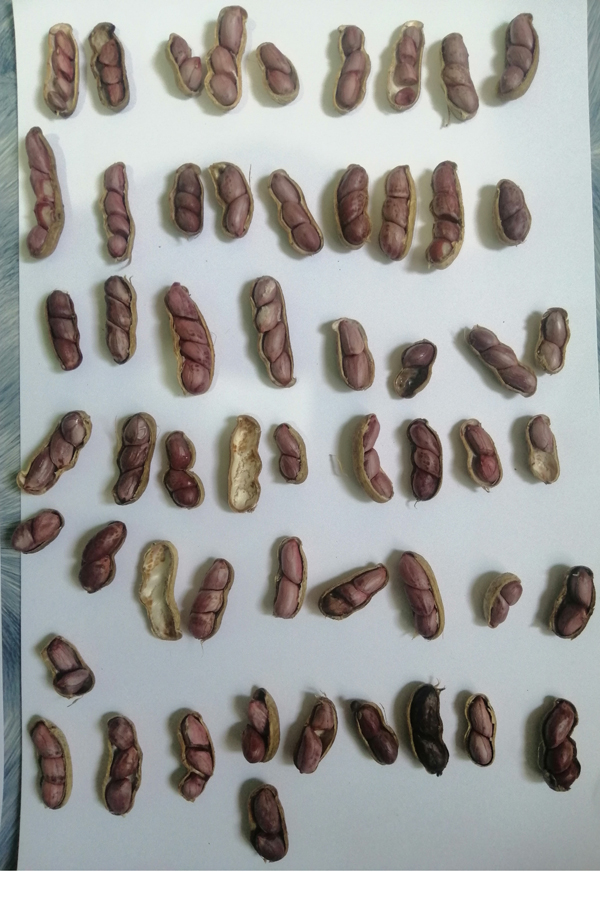Empty: (131, 533, 183, 653), (218, 405, 270, 518)
Four: (160, 276, 222, 398), (244, 274, 304, 388), (15, 128, 64, 257), (35, 17, 92, 117), (93, 159, 145, 268), (427, 153, 471, 272), (381, 11, 426, 118)
One: (519, 410, 566, 491), (387, 332, 433, 399)
Three: (531, 692, 600, 804), (15, 405, 94, 498), (461, 321, 540, 402), (264, 165, 326, 261), (90, 711, 144, 817), (396, 539, 452, 640), (22, 717, 79, 816), (179, 551, 241, 637), (435, 29, 489, 124), (174, 706, 223, 809), (86, 13, 133, 120), (348, 409, 398, 507), (492, 5, 540, 107), (375, 162, 422, 265), (113, 411, 164, 503), (204, 3, 249, 106), (313, 562, 387, 624), (96, 273, 145, 366), (42, 283, 87, 379), (404, 413, 446, 503), (333, 22, 372, 117), (161, 428, 200, 520), (335, 162, 372, 251), (163, 162, 205, 236)
Two: (403, 684, 453, 781), (289, 695, 346, 780), (344, 691, 403, 773), (326, 303, 379, 394), (242, 780, 298, 866), (211, 153, 261, 242), (71, 520, 130, 595), (234, 683, 286, 765), (455, 413, 507, 491), (38, 633, 98, 700), (549, 563, 600, 641), (267, 533, 309, 622), (270, 414, 316, 491), (160, 28, 207, 103), (461, 691, 505, 770), (7, 507, 68, 562), (487, 176, 535, 243), (255, 37, 301, 105), (474, 570, 522, 635), (535, 305, 577, 379)
